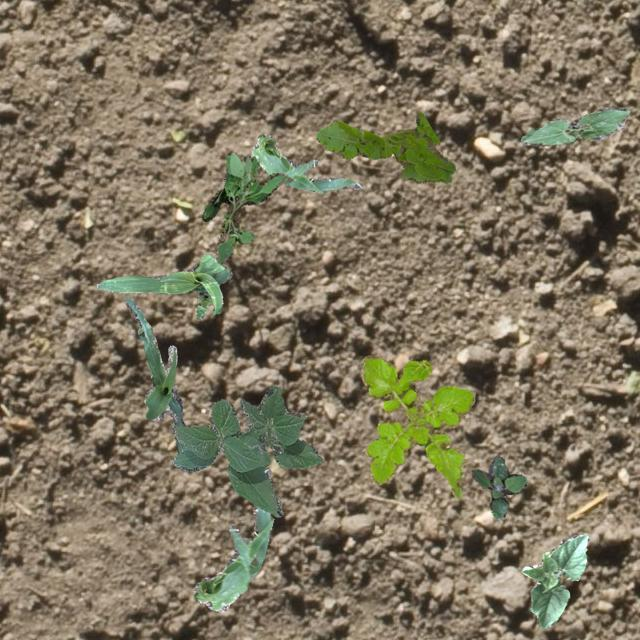crop: (170, 384, 322, 516), (192, 468, 272, 610), (124, 296, 184, 452), (96, 252, 230, 318), (250, 132, 360, 192), (520, 534, 588, 628), (520, 106, 628, 146)
weed: (360, 354, 474, 496), (314, 110, 454, 182), (200, 150, 284, 264), (470, 454, 526, 518)
